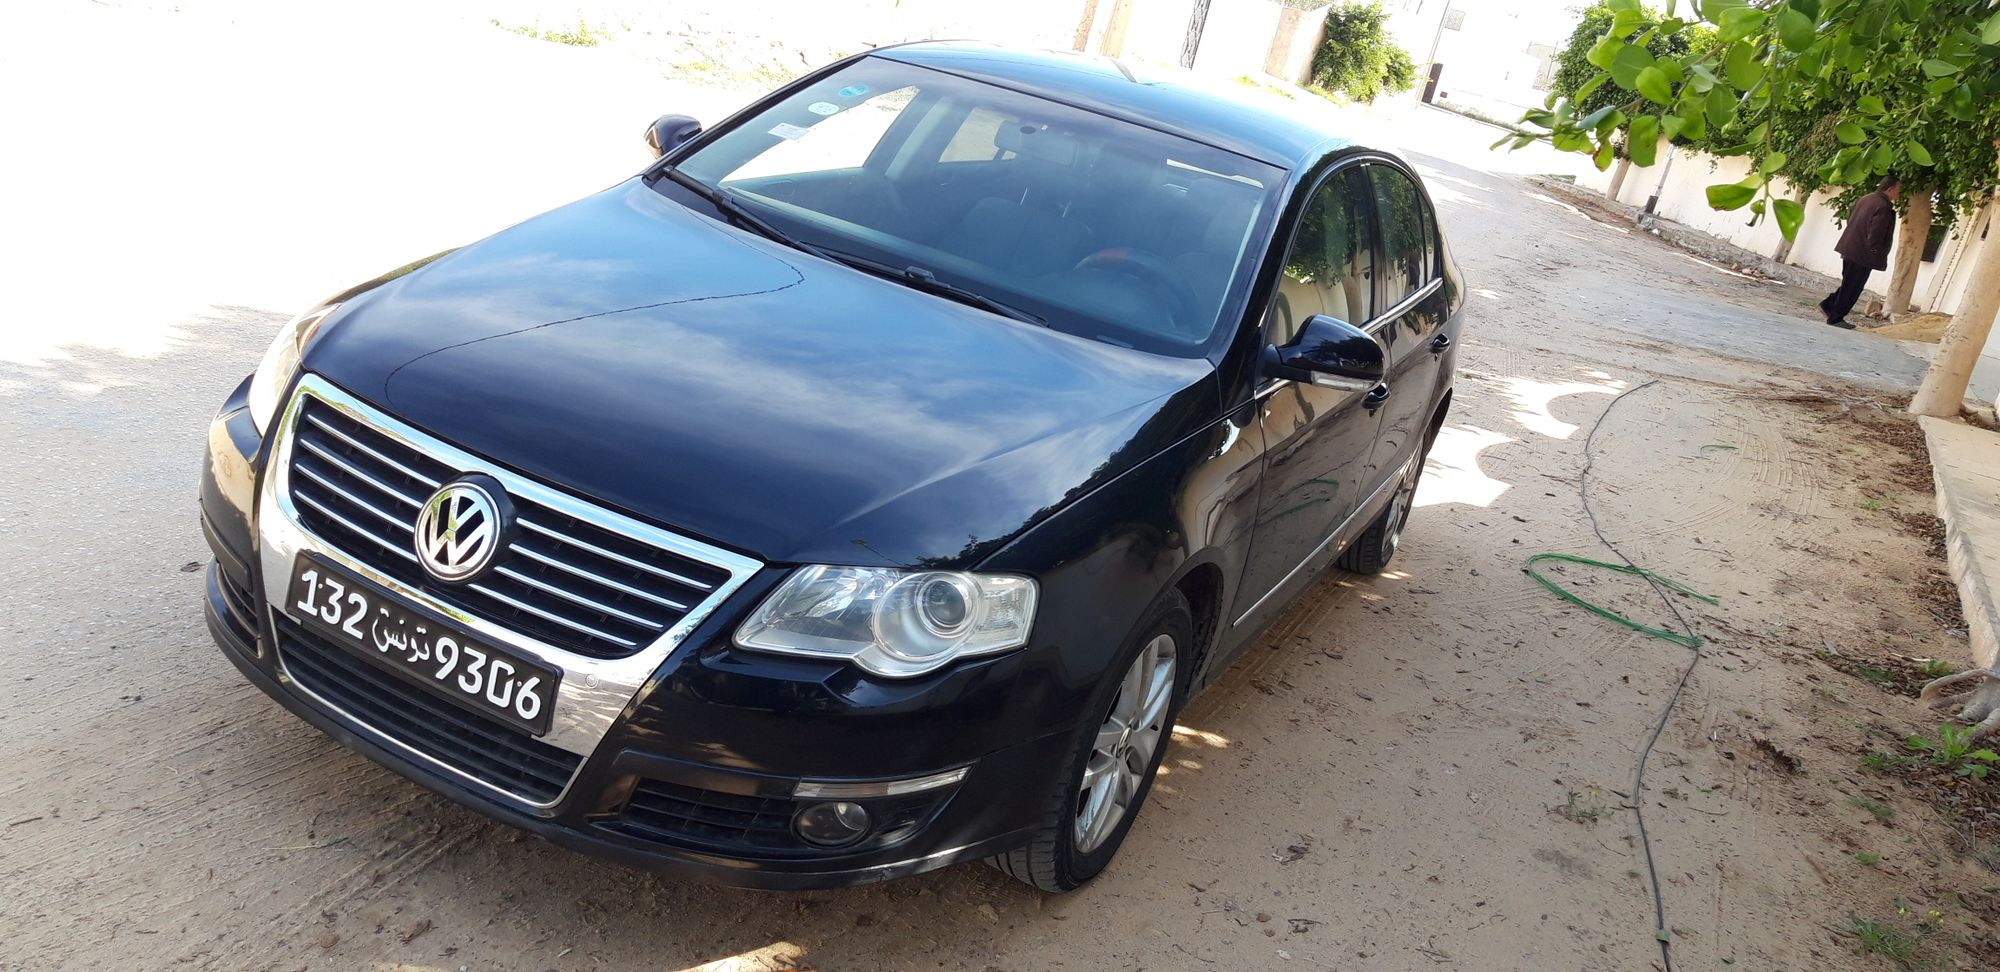LP: (281, 546, 569, 747)
